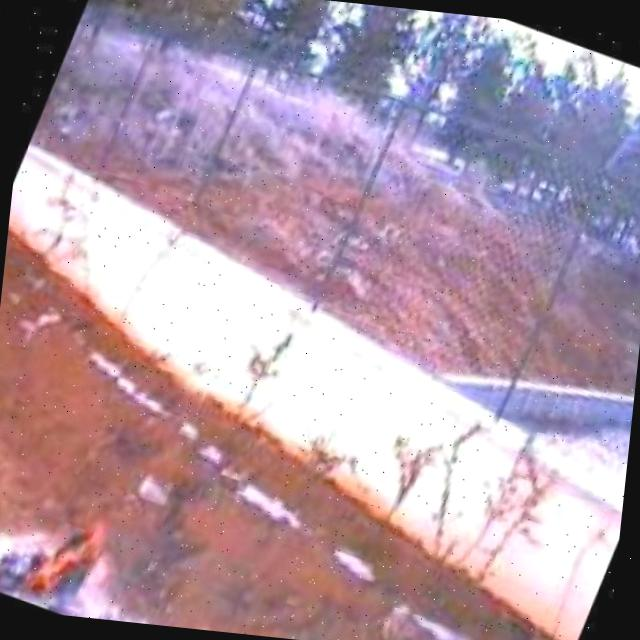fire: (0, 485, 130, 620)
